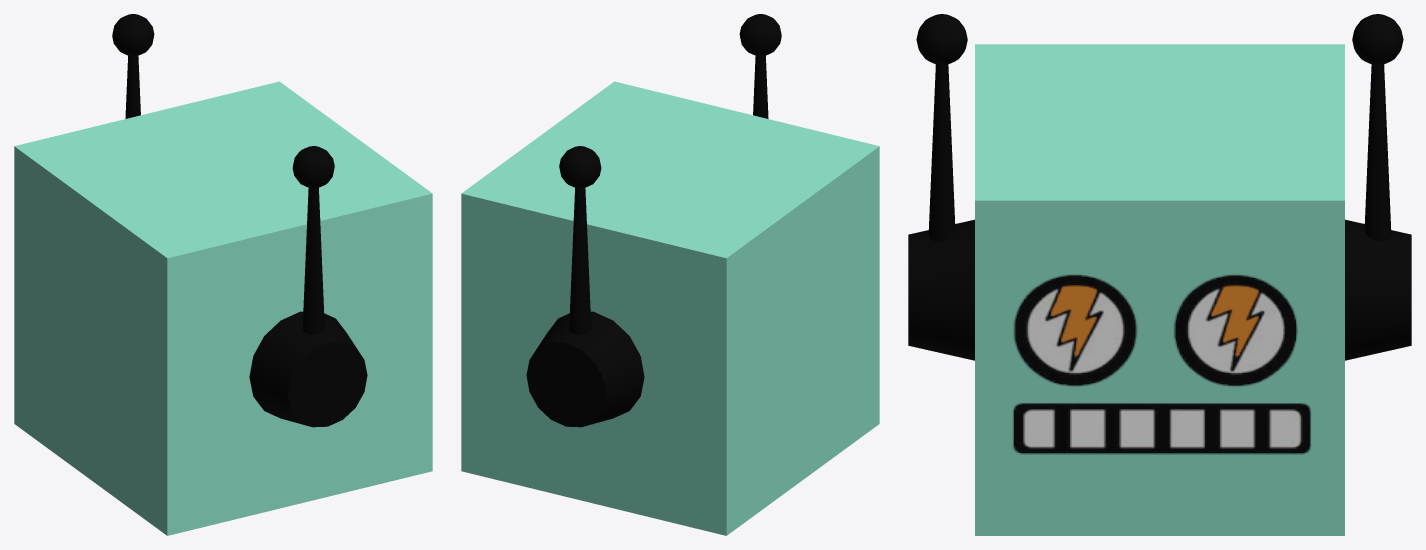
Rendered from tete.FBX.
3 renders of one model, left to right at view 1: azimuth 30°, elevation 25°; view 2: azimuth 150°, elevation 25°; view 3: azimuth 270°, elevation 25°, orthographic. The views are drawn at different scales.
Visible parts, largest first — view 1: Tête; view 2: Tête; view 3: Tête.
Part boxes in pixels (x1=…): Tête: x1=14, y1=14, x2=432, y2=535; Tête: x1=461, y1=14, x2=879, y2=535; Tête: x1=908, y1=14, x2=1411, y2=535.
Size of the model in its own units: 1 by 1.32 by 1.36.
2 materials, 1 textured.
